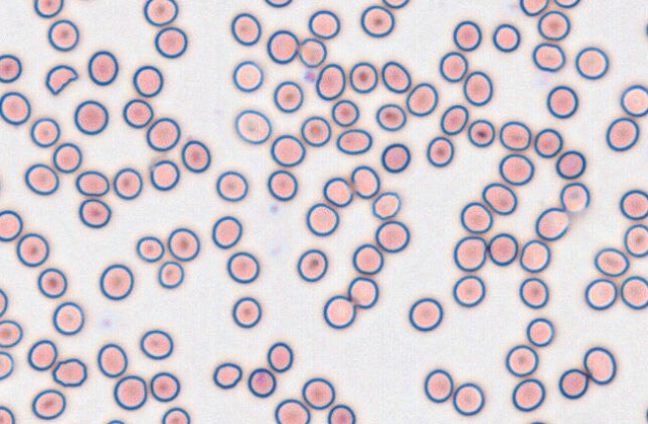PLT: (303, 70, 317, 83)
RBC: (234, 109, 272, 144), (99, 263, 134, 300), (73, 99, 108, 135), (583, 346, 616, 384), (113, 374, 147, 410), (453, 235, 487, 271), (145, 117, 180, 151), (408, 297, 443, 331), (481, 182, 517, 215), (605, 117, 639, 151), (322, 295, 356, 329), (535, 207, 569, 241), (305, 202, 339, 236), (270, 134, 305, 167), (16, 232, 49, 267), (266, 29, 299, 64), (498, 153, 534, 185), (511, 378, 545, 411), (375, 220, 409, 253), (405, 82, 438, 116), (167, 227, 200, 261), (360, 4, 394, 37), (575, 46, 609, 79), (24, 163, 59, 195), (462, 70, 493, 106), (315, 63, 345, 100), (505, 344, 538, 377), (301, 377, 335, 409), (452, 382, 484, 416), (296, 248, 328, 282), (52, 301, 84, 335), (31, 389, 66, 420), (87, 50, 118, 85), (51, 357, 87, 387), (452, 275, 485, 307), (460, 201, 493, 233), (584, 278, 617, 310), (154, 26, 187, 58), (226, 251, 259, 283), (546, 85, 578, 118), (0, 91, 31, 125), (519, 239, 550, 273), (211, 215, 242, 249), (423, 368, 453, 403), (97, 343, 127, 378), (594, 247, 629, 277), (47, 19, 79, 51), (230, 12, 261, 45), (132, 64, 163, 97), (215, 170, 248, 201), (181, 139, 211, 173), (350, 165, 380, 199), (488, 232, 518, 266), (139, 329, 173, 359), (149, 159, 180, 191), (347, 276, 378, 308), (352, 243, 383, 275), (232, 60, 263, 92), (499, 120, 531, 151), (532, 42, 565, 72), (78, 198, 111, 228), (537, 10, 570, 40), (381, 60, 411, 93), (113, 167, 143, 200), (273, 80, 303, 113), (336, 128, 372, 155), (149, 371, 180, 402), (518, 277, 549, 308), (322, 176, 353, 207), (300, 115, 331, 146), (27, 339, 57, 371), (231, 296, 261, 328), (267, 169, 297, 201), (308, 9, 340, 39), (620, 275, 648, 309), (558, 368, 588, 399), (52, 142, 82, 173), (122, 98, 153, 128), (559, 182, 590, 212), (37, 267, 67, 298), (380, 142, 410, 173), (349, 61, 378, 93), (620, 84, 648, 117), (143, 0, 178, 26), (274, 398, 310, 423), (30, 117, 60, 147), (247, 367, 276, 398), (439, 51, 468, 82), (534, 127, 563, 158), (555, 150, 586, 179), (619, 189, 648, 220), (452, 20, 481, 51), (75, 170, 109, 196), (298, 37, 327, 67), (440, 104, 468, 135), (426, 136, 454, 167), (375, 103, 406, 131), (623, 223, 648, 257), (371, 191, 401, 219), (526, 317, 554, 347), (266, 341, 293, 372), (492, 23, 520, 52), (212, 362, 242, 389), (467, 119, 495, 147), (157, 260, 184, 289), (136, 235, 164, 262), (331, 99, 359, 126), (0, 209, 23, 241), (0, 319, 23, 348), (0, 53, 22, 83), (327, 403, 355, 423), (33, 0, 64, 18), (519, 0, 548, 16), (161, 407, 190, 423), (0, 350, 14, 380), (0, 405, 15, 423), (381, 0, 409, 9), (0, 287, 8, 317), (263, 0, 292, 8), (553, 0, 580, 8), (525, 420, 554, 424), (105, 419, 125, 424), (0, 169, 3, 199), (645, 400, 648, 423), (645, 19, 648, 39), (73, 0, 101, 1)
Schistocyte: (45, 65, 79, 95)
